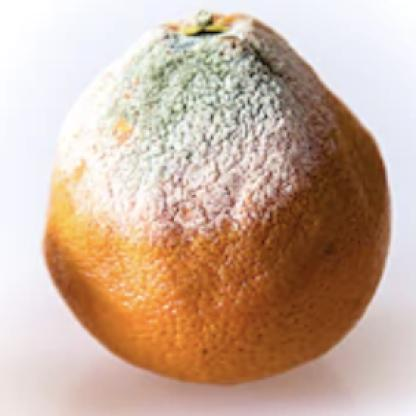rotten: (44, 10, 394, 387)
